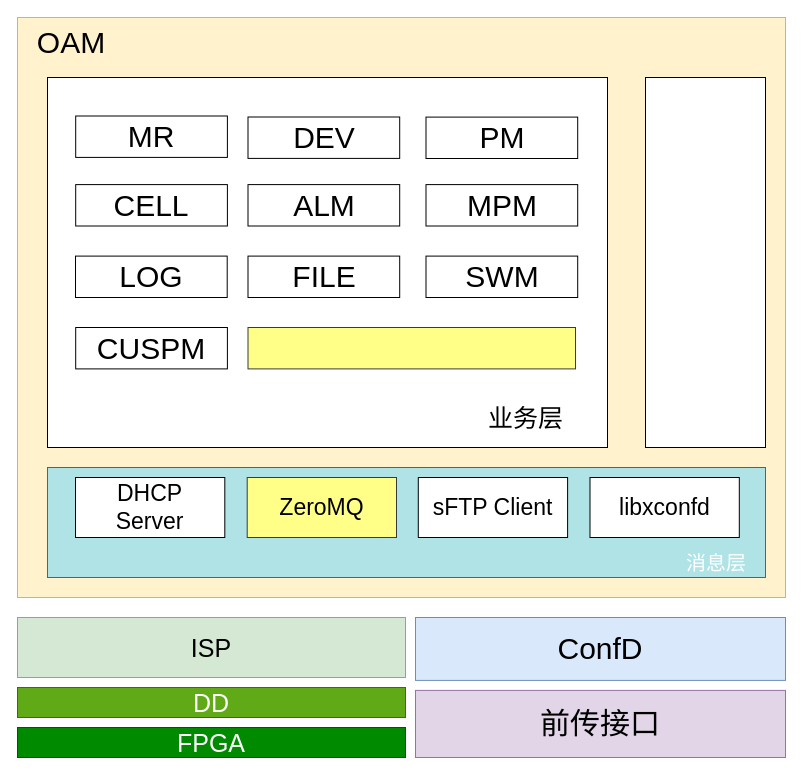
The diagram is 803 pixels wide and 775 high, and some of its shapes have lost their labels. Each missing label, with the centre of its shape:
Main Process 主控制 模块: the point at 705,262
Module base ZeroMQ: the point at 411,347
